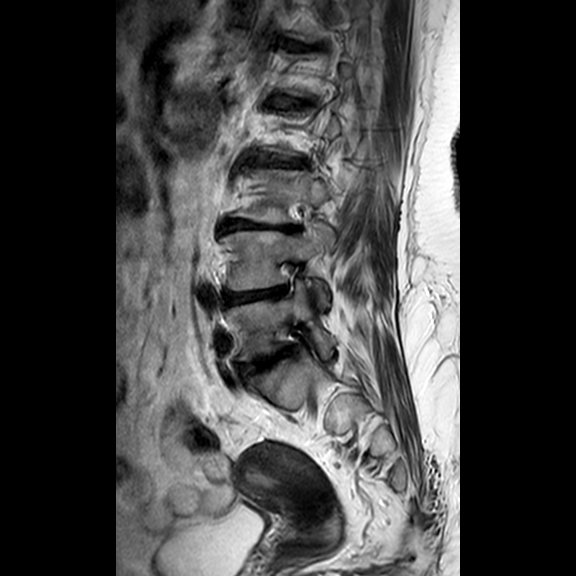LFS3: (267, 248, 321, 314)
